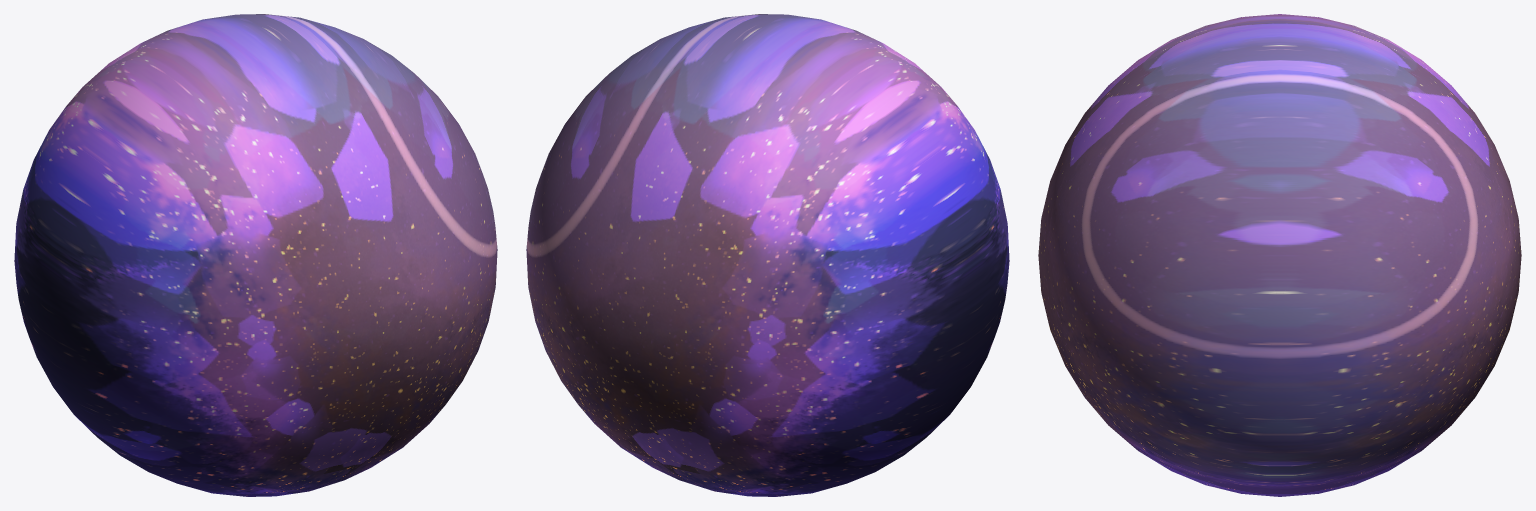
Rendered from Bubble.fbx.
3 views of the same model, side by side, from view 1: azimuth 30°, elevation 25°; view 2: azimuth 150°, elevation 25°; view 3: azimuth 270°, elevation 25° (orthographic).
Visible parts, largest first — view 1: Icosphere; view 2: Icosphere; view 3: Icosphere.
Part boxes in pixels (left/top/right/bottom): Icosphere: left=14, top=14, right=497, bottom=496; Icosphere: left=526, top=14, right=1009, bottom=496; Icosphere: left=1038, top=14, right=1521, bottom=496.
Bounding box in the file's own units: 200 × 200 × 200.
1 material, 1 textured.
